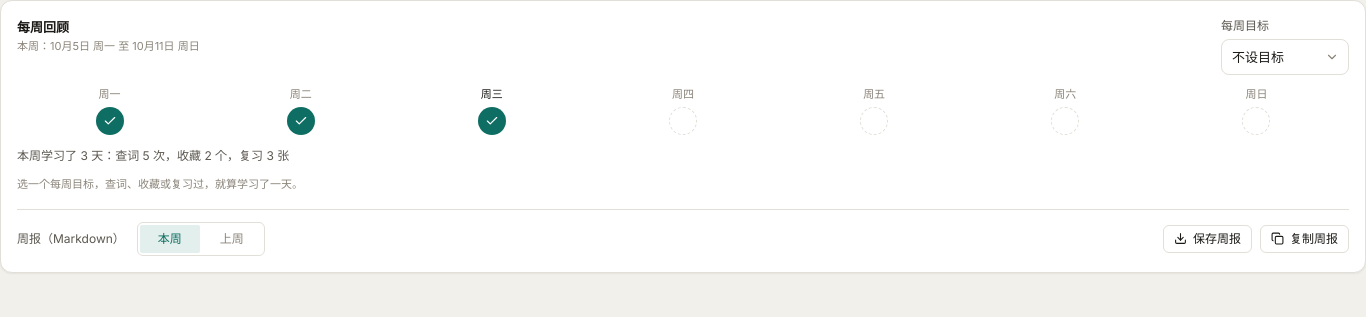
Test: the weekly card of the insights page › the report › can be copied instead, without a dialog
Click the button "复制周报". click: click(1304, 239)
box: [1260, 225, 1349, 253]
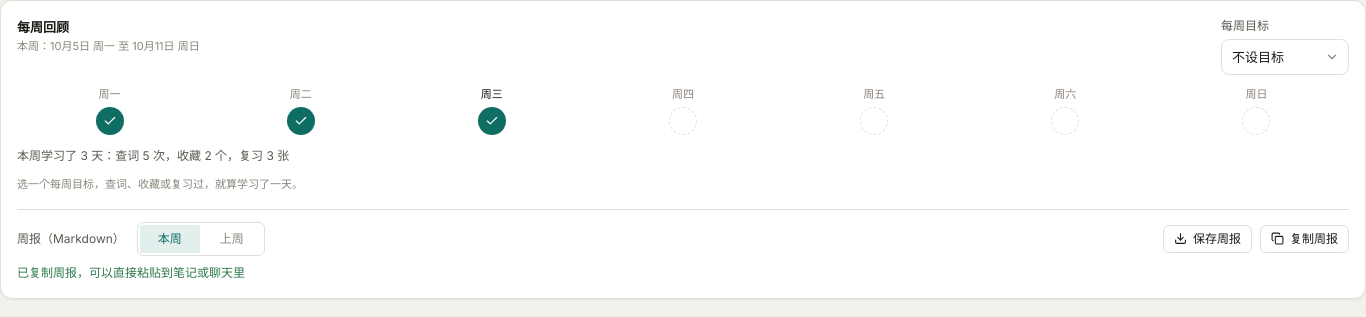
Expected: the text "已复制周报，可以直接粘贴到笔记或聊天里" is shown, [17, 265, 245, 280]
